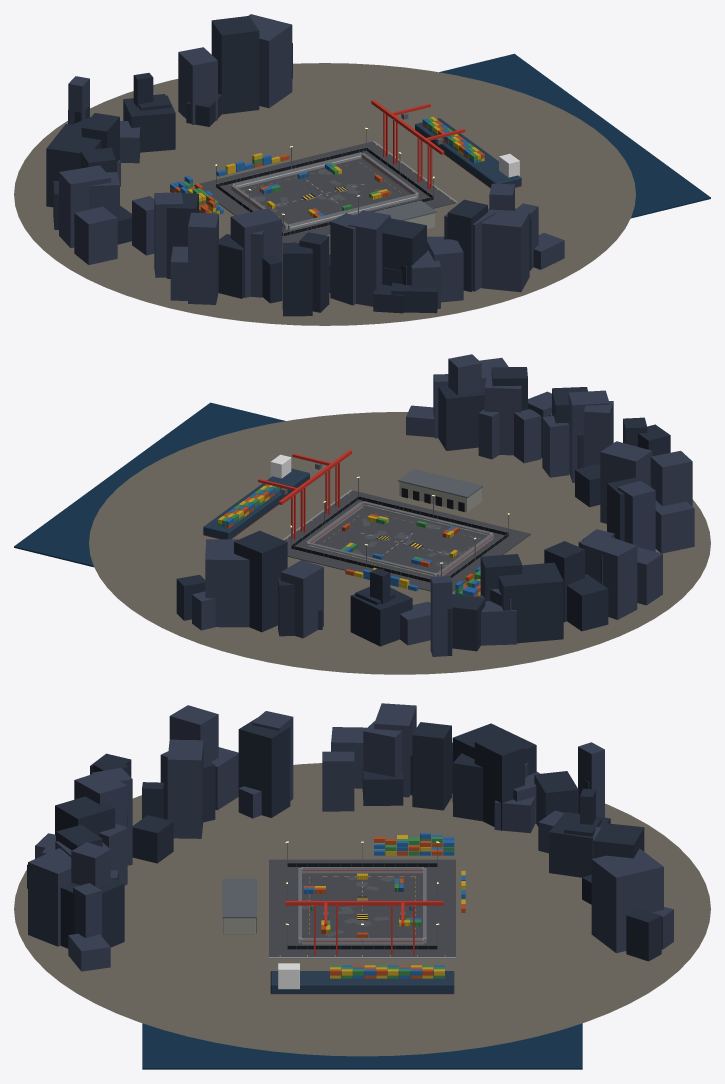
Rendered from arena_port.glb.
The picture shows the model from 3 angles, top to bottom: view 1: azimuth 30°, elevation 25°; view 2: azimuth 150°, elevation 25°; view 3: azimuth 270°, elevation 25°; orthographic projection. The views are drawn at different scales.
Visible parts, largest first — view 1: ground_gravel, far_city2, far_city, ground_asphalt, ground_water, props_crane, props_hull, walls_concrete, props_dark, props_steel_d, walls_concrete2, props_c1 (+4 smaller); view 2: ground_gravel, far_city2, far_city, ground_asphalt, ground_water, props_dark, props_steel_d, props_hull, walls_concrete, props_crane, walls_concrete2, props_wall (+2 smaller); view 3: ground_gravel, far_city2, far_city, ground_asphalt, ground_water, props_hull, props_steel_d, walls_concrete, props_crane, props_dark, props_c1, props_c0 (+5 smaller).
Part boxes in pixels (bbox=[...]): ground_gravel: bbox=[14, 63, 635, 325]; far_city2: bbox=[59, 14, 564, 308]; far_city: bbox=[46, 16, 531, 316]; ground_asphalt: bbox=[194, 141, 455, 245]; ground_water: bbox=[439, 53, 710, 218]; props_crane: bbox=[371, 100, 465, 189]; props_hull: bbox=[415, 118, 521, 187]; walls_concrete: bbox=[231, 153, 418, 230]; props_dark: bbox=[216, 147, 433, 236]; props_steel_d: bbox=[216, 113, 442, 236]; walls_concrete2: bbox=[232, 153, 417, 225]; props_c1: bbox=[170, 118, 477, 214]; ground_gravel: bbox=[89, 412, 710, 674]; far_city2: bbox=[192, 354, 694, 656]; far_city: bbox=[176, 367, 670, 655]; ground_asphalt: bbox=[284, 490, 530, 591]; ground_water: bbox=[14, 402, 285, 567]; props_dark: bbox=[291, 488, 508, 582]; props_steel_d: bbox=[280, 463, 508, 582]; props_hull: bbox=[203, 468, 309, 539]; walls_concrete: bbox=[306, 501, 493, 577]; props_crane: bbox=[258, 450, 351, 539]; walls_concrete2: bbox=[307, 502, 492, 574]; props_wall: bbox=[399, 481, 481, 512]; ground_gravel: bbox=[14, 763, 710, 1056]; far_city2: bbox=[28, 703, 673, 971]; far_city: bbox=[27, 717, 661, 961]; ground_asphalt: bbox=[269, 859, 455, 956]; ground_water: bbox=[142, 1023, 582, 1069]; props_hull: bbox=[270, 971, 454, 993]; props_steel_d: bbox=[222, 843, 437, 949]; walls_concrete: bbox=[298, 867, 426, 944]; props_crane: bbox=[285, 901, 443, 955]; props_dark: bbox=[256, 863, 437, 949]; props_c1: bbox=[341, 833, 465, 978]; props_c0: bbox=[330, 837, 465, 978].
Bounding box in the file's own units: 393 × 56.41 × 380.
